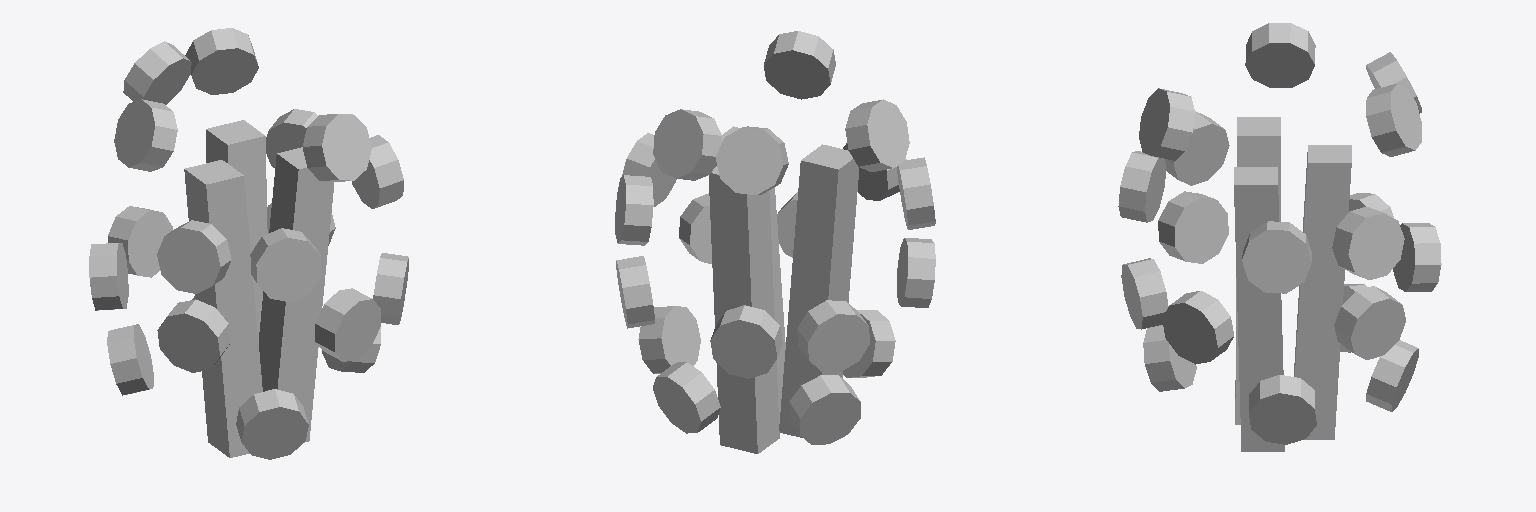
File: Plant 2.2.obj
3 views of the same model, side by side, from view 1: azimuth 30°, elevation 25°; view 2: azimuth 150°, elevation 25°; view 3: azimuth 270°, elevation 25° (orthographic).
Visible parts, largest first — view 1: Cylinder.001, Cube.002_Cube.003; view 2: Cylinder.001, Cube.002_Cube.003; view 3: Cylinder.001, Cube.002_Cube.003.
Part boxes in pixels (x1,y1,x2,y2): Cylinder.001: (89,28,408,459); Cube.002_Cube.003: (184,120,333,457); Cylinder.001: (615,31,935,444); Cube.002_Cube.003: (709,126,858,453); Cylinder.001: (1118,23,1441,444); Cube.002_Cube.003: (1234,117,1351,451).
Size of the model in its own units: 2.01 by 2.58 by 2.1.